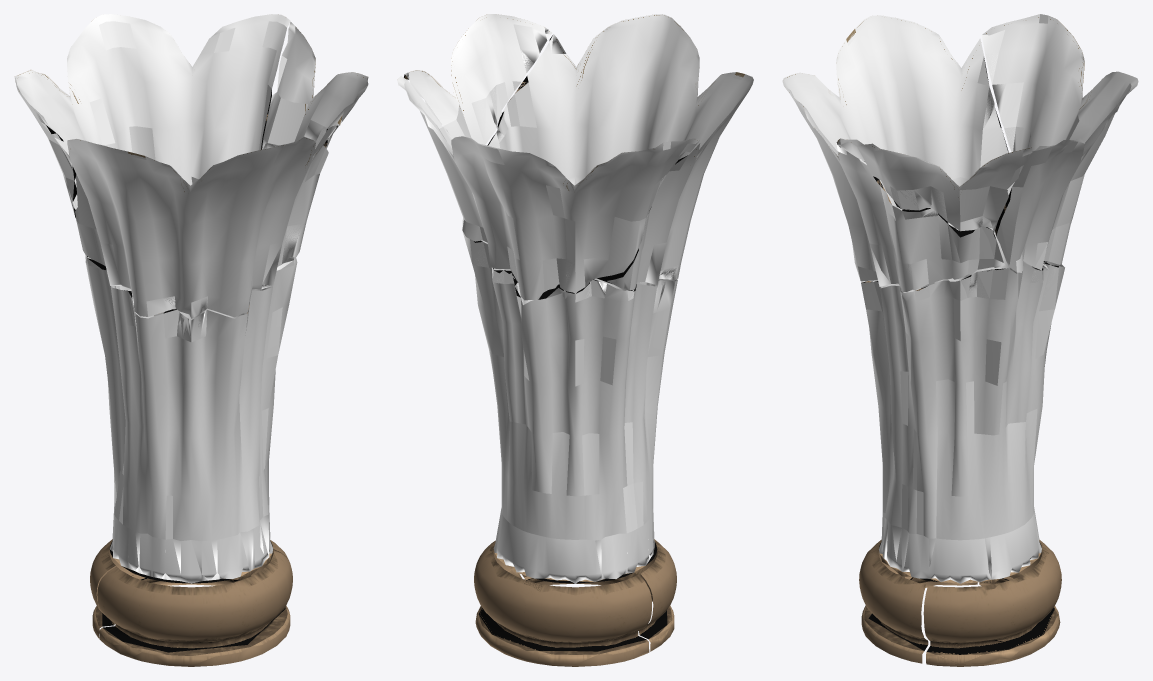
The model's file is FbxPetitVase_Shattered.fbx.
The picture shows the model from 3 angles, left to right: view 1: azimuth 30°, elevation 25°; view 2: azimuth 150°, elevation 25°; view 3: azimuth 270°, elevation 25°; orthographic projection.
Parts seen in each view (by area): view 1: PetitVase_Shattered_cell, PetitVase_Shattered_cell.003, PetitVase_Shattered_cell.001, PetitVase_Shattered.001_cell.002, PetitVase_Shattered_cell.002, PetitVase_Shattered.001_cell.001; view 2: PetitVase_Shattered_cell, PetitVase_Shattered_cell.003, PetitVase_Shattered_cell.001, PetitVase_Shattered.001_cell.001, PetitVase_Shattered_cell.002, PetitVase_Shattered.001_cell.002; view 3: PetitVase_Shattered_cell, PetitVase_Shattered_cell.003, PetitVase_Shattered_cell.001, PetitVase_Shattered.001_cell.001, PetitVase_Shattered_cell.002, PetitVase_Shattered.001_cell.002.
Part boxes in pixels (left/top/right/bottom): PetitVase_Shattered_cell: left=85, top=255, right=297, bottom=583; PetitVase_Shattered_cell.003: left=54, top=125, right=337, bottom=318; PetitVase_Shattered_cell.001: left=14, top=14, right=290, bottom=217; PetitVase_Shattered.001_cell.002: left=97, top=550, right=292, bottom=666; PetitVase_Shattered_cell.002: left=262, top=22, right=368, bottom=149; PetitVase_Shattered.001_cell.001: left=90, top=539, right=288, bottom=638; PetitVase_Shattered_cell: left=463, top=232, right=677, bottom=583; PetitVase_Shattered_cell.003: left=487, top=14, right=753, bottom=290; PetitVase_Shattered_cell.001: left=397, top=76, right=699, bottom=300; PetitVase_Shattered.001_cell.001: left=474, top=540, right=651, bottom=666; PetitVase_Shattered_cell.002: left=404, top=14, right=551, bottom=144; PetitVase_Shattered.001_cell.002: left=522, top=539, right=676, bottom=651; PetitVase_Shattered_cell: left=861, top=227, right=1064, bottom=583; PetitVase_Shattered_cell.003: left=782, top=15, right=1014, bottom=291; PetitVase_Shattered_cell.001: left=981, top=14, right=1138, bottom=272; PetitVase_Shattered.001_cell.001: left=923, top=539, right=1061, bottom=666; PetitVase_Shattered_cell.002: left=837, top=138, right=1032, bottom=232; PetitVase_Shattered.001_cell.002: left=859, top=539, right=977, bottom=663.
Size of the model in its own units: 31.94 by 60.66 by 35.79.
